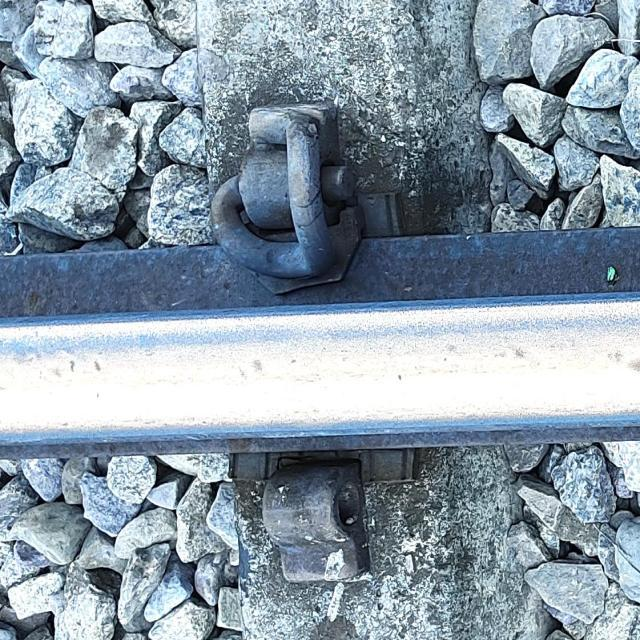Good Fasteners: (203, 82, 422, 304)
Missing Fastener: (257, 455, 389, 609)
